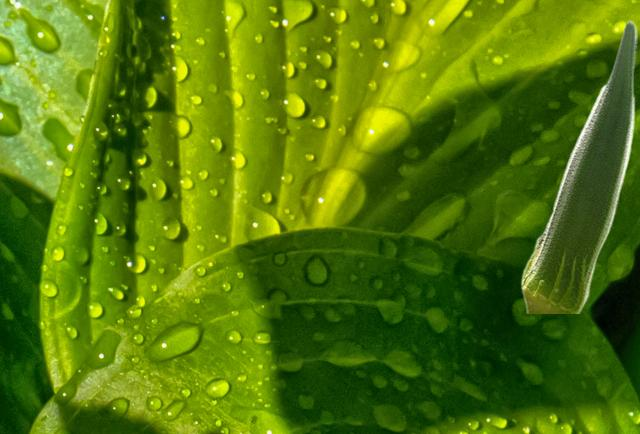okra: (520, 19, 636, 312)
